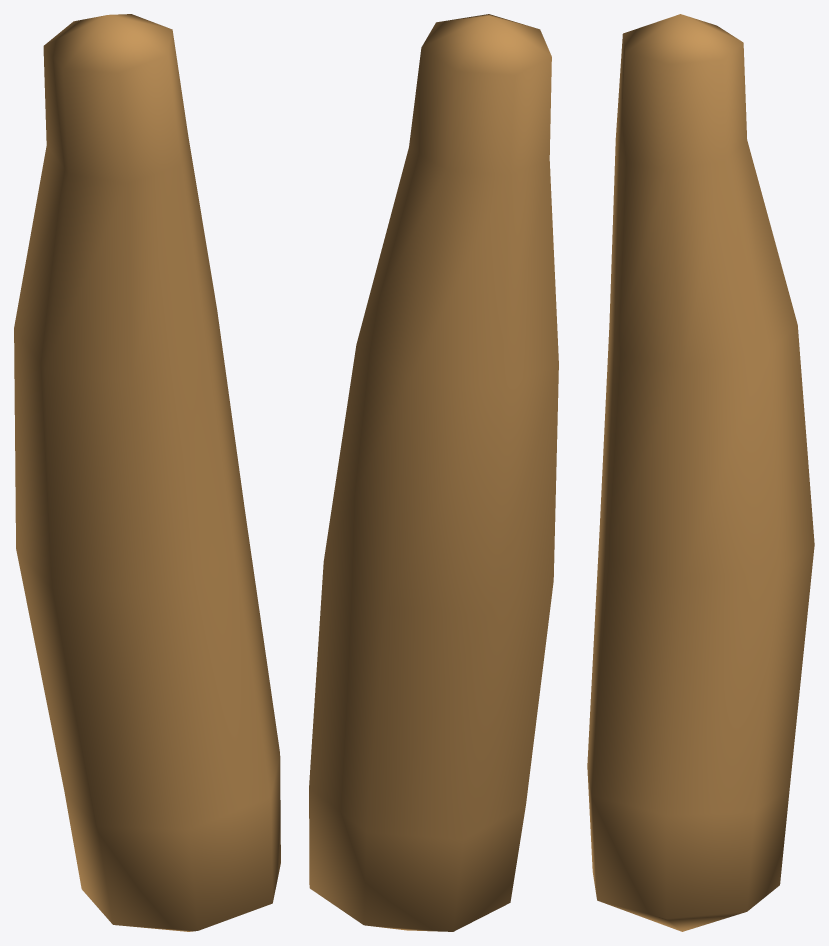
Rendered from tarsus4_T1_right_leg.obj.
The picture shows the model from 3 angles, left to right: view 1: azimuth 30°, elevation 25°; view 2: azimuth 150°, elevation 25°; view 3: azimuth 270°, elevation 25°; orthographic projection. The views are drawn at different scales.
Size of the model in its own units: 0.00283 by 0.0109 by 0.00256.
